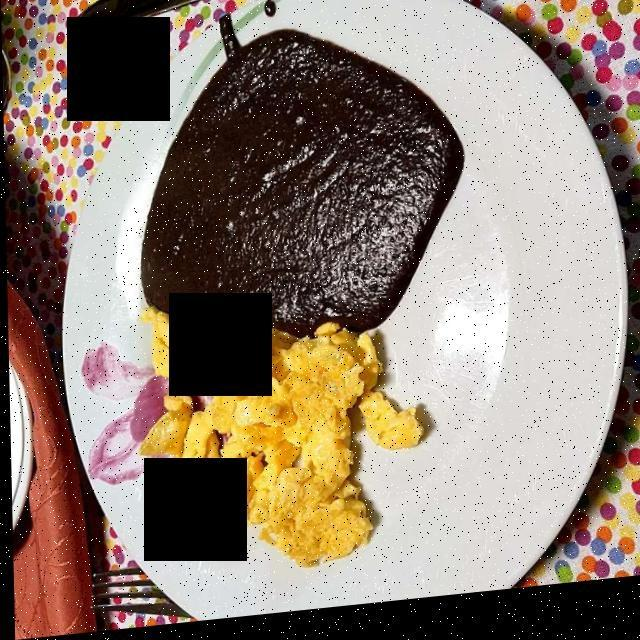eggs: (142, 301, 416, 572)
